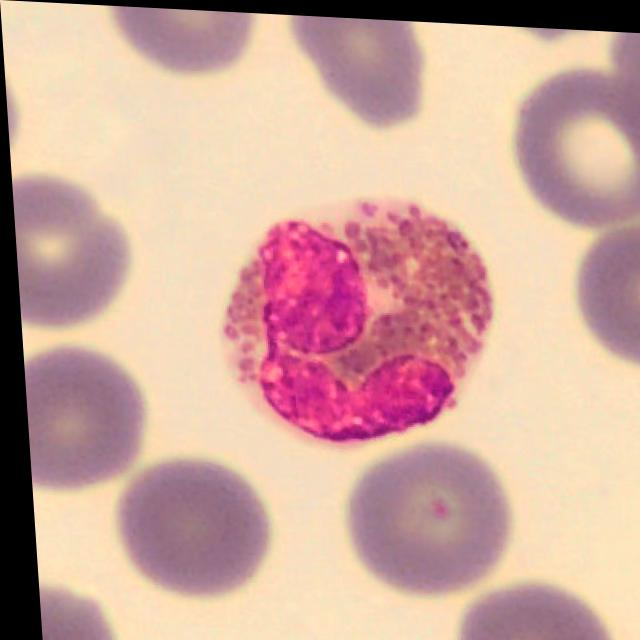Eosinofilo: (218, 194, 489, 442)
